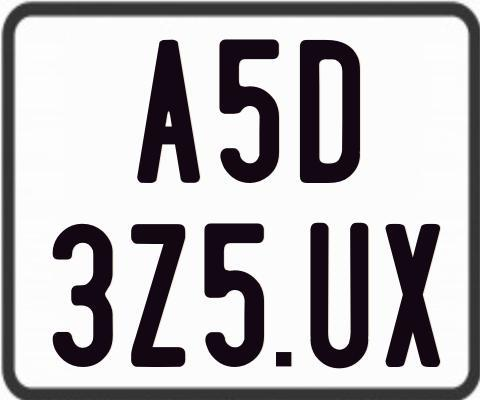3: (51, 224, 115, 368)
5: (216, 37, 278, 182), (204, 221, 265, 366)
A: (135, 38, 200, 184)
D: (299, 40, 361, 187)
U: (309, 222, 371, 370)
X: (386, 222, 443, 366)
Z: (131, 223, 188, 367)
